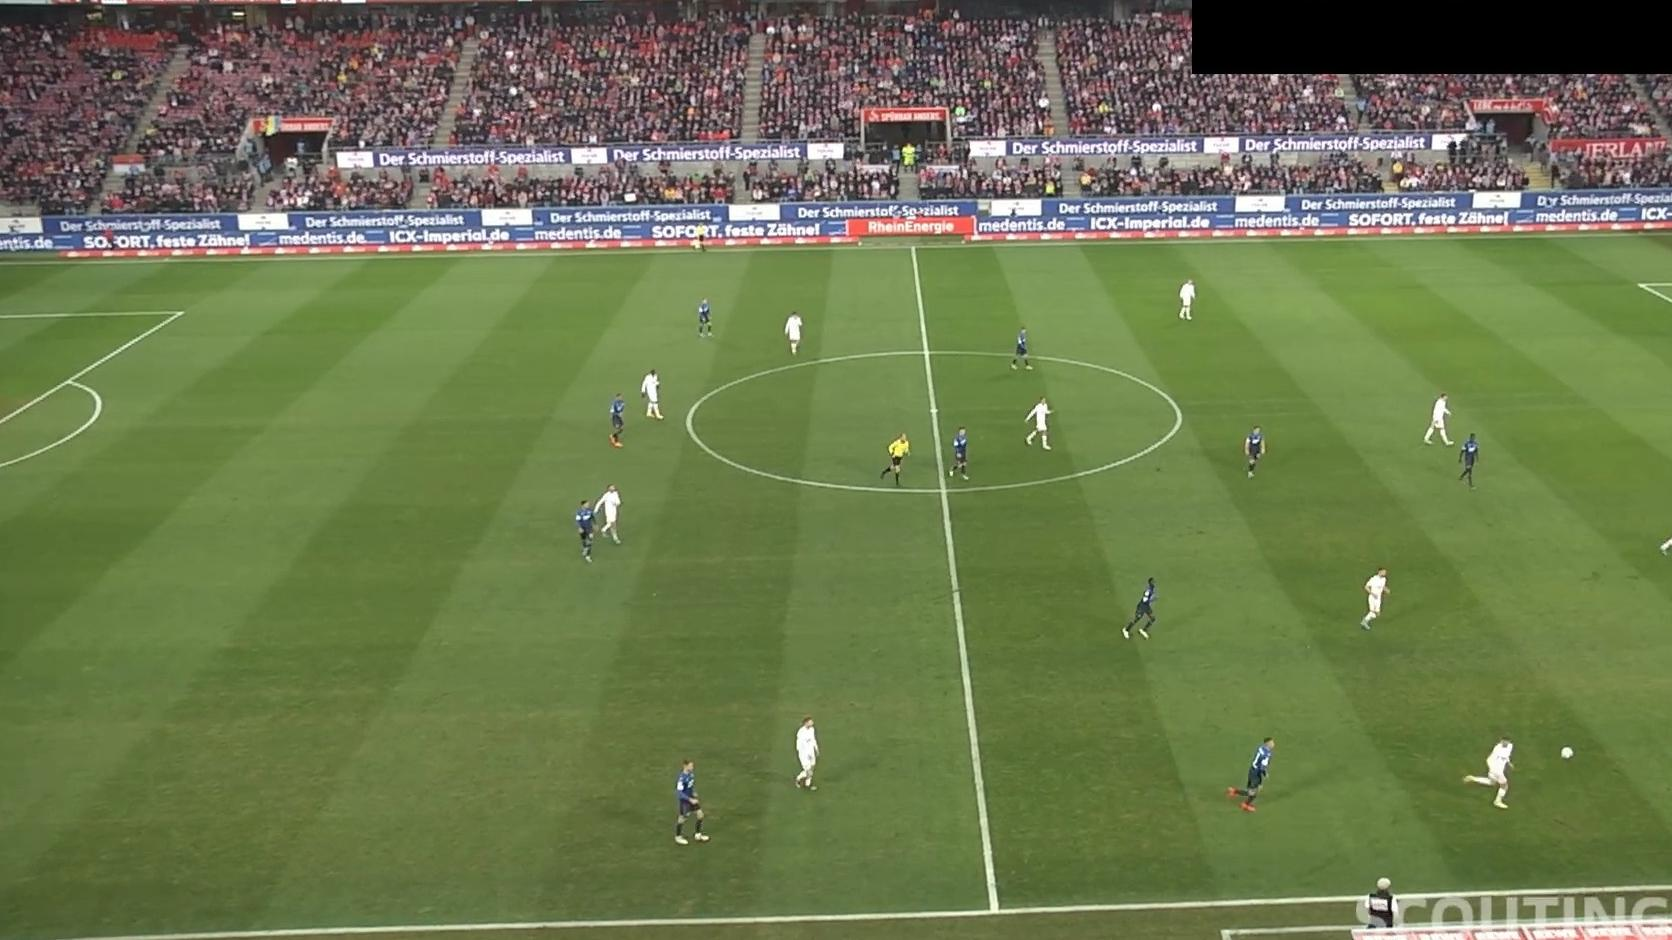ball: (1559, 745, 1576, 760)
